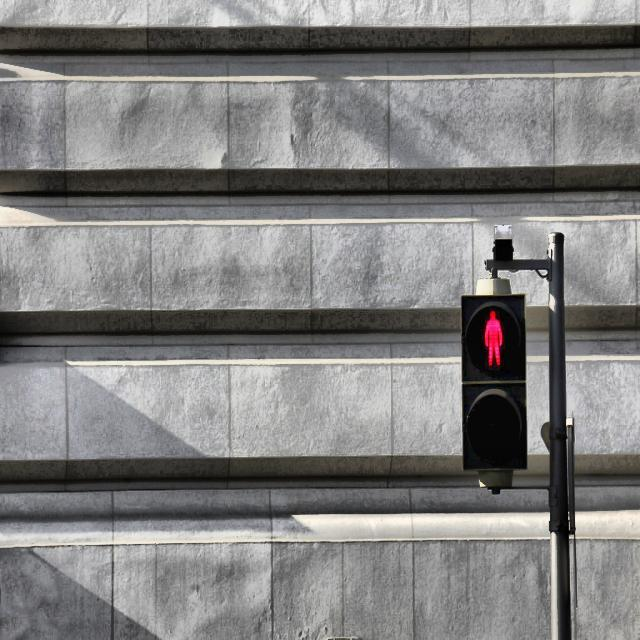red_light: (482, 308, 505, 368)
